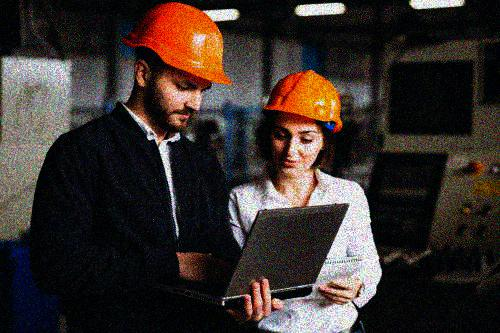helmet: (122, 1, 231, 130), (264, 69, 344, 178)
